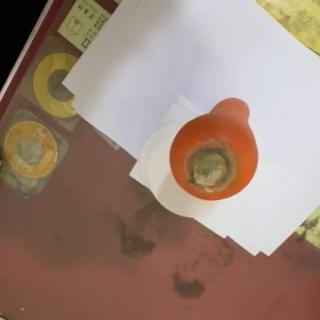carrot: (169, 96, 259, 202)
